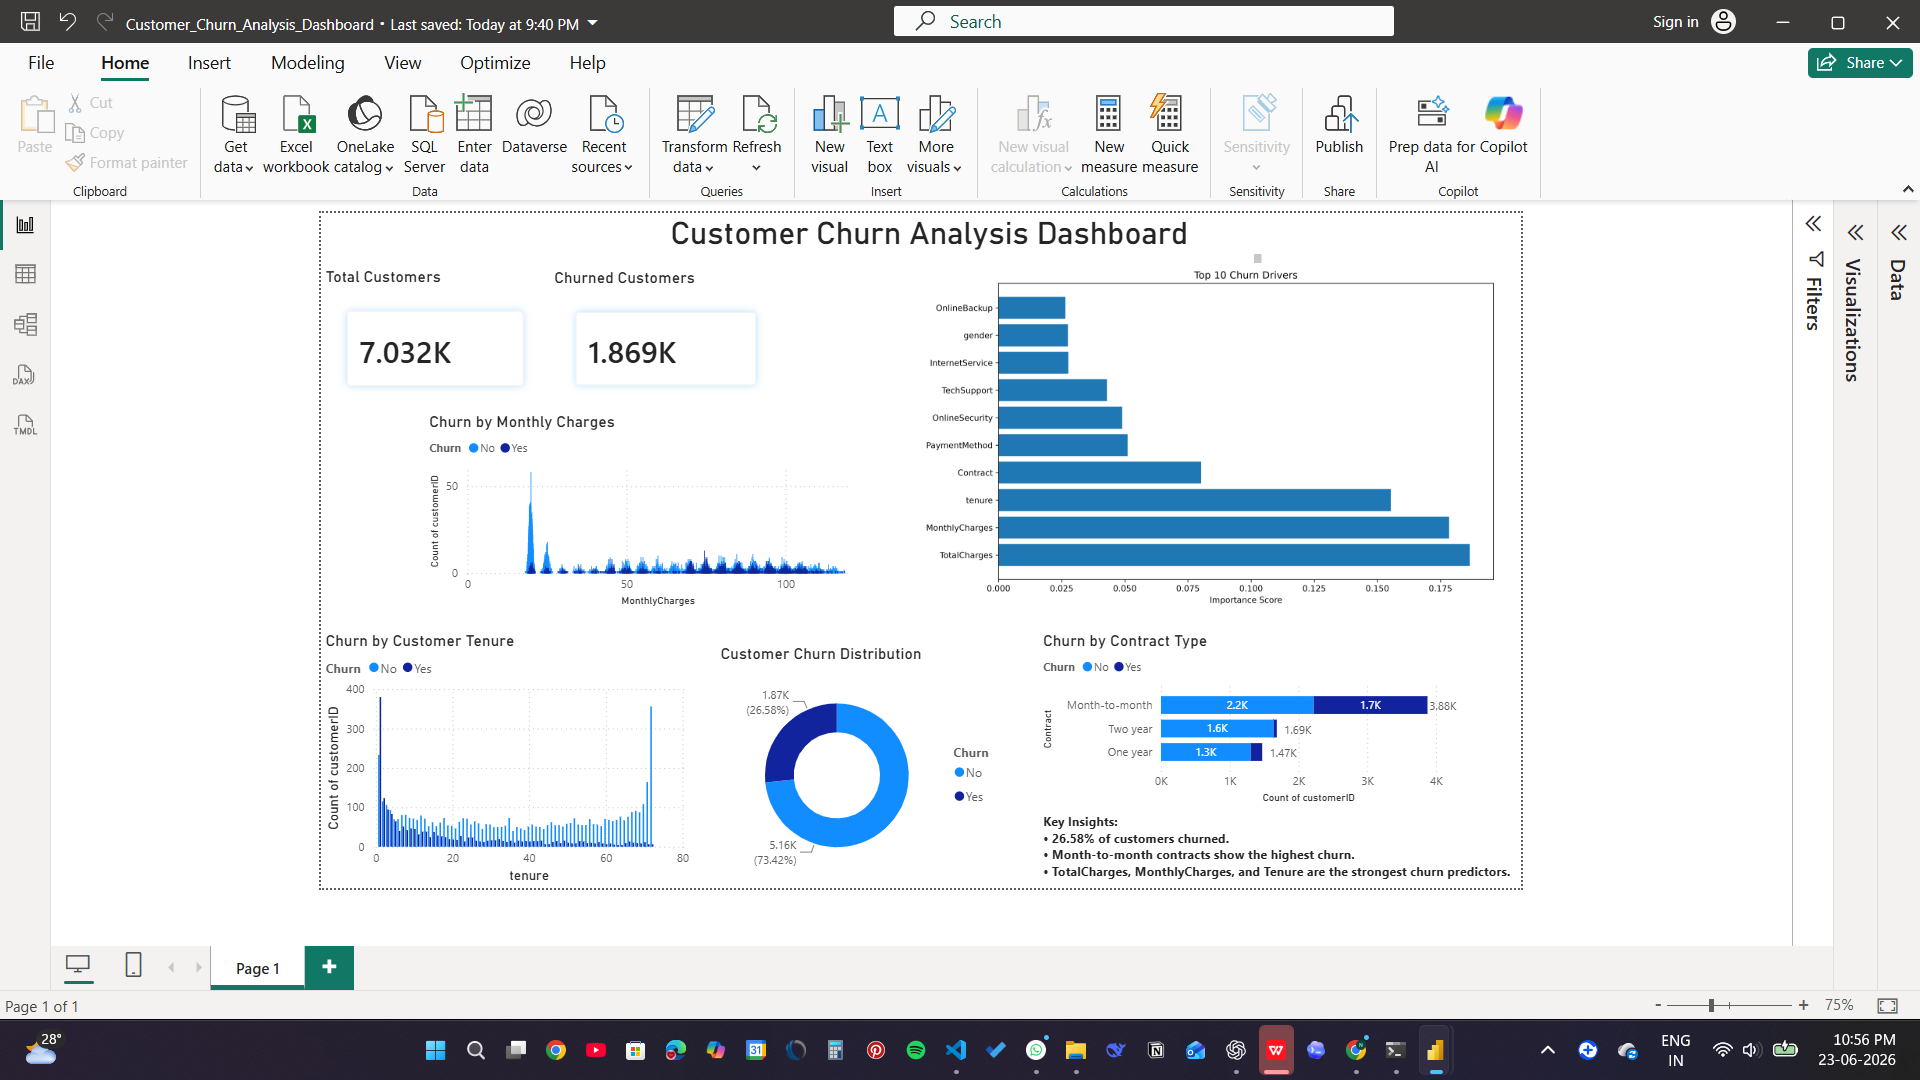

What the dashboard file says about the page in this screenshot:
{"tool":"powerbi","page":{"name":"Page 1","canvas":[1280,720],"ordinal":0},"visuals":[{"type":"donutChart","title":"Customer Churn Distribution","fields":{"Category":["cleaned_telco_churn.Churn"],"Y":["CountNonNull(cleaned_telco_churn.customerID)"]},"box":[421.6,459.5,316.2,260.8],"z":0},{"type":"cardVisual","title":"Churned Customers","fields":{"Data":["Count(cleaned_telco_churn.customerID)"]},"box":[244.6,58.1,248.6,154.1],"z":1000},{"type":"barChart","title":"Churn by Contract Type","fields":{"Category":["cleaned_telco_churn.Contract"],"Y":["CountNonNull(cleaned_telco_churn.customerID)"],"Series":["cleaned_telco_churn.Churn"]},"box":[764.9,445.9,458.1,189.2],"z":2000},{"type":"clusteredColumnChart","title":"Churn by Customer Tenure","fields":{"Category":["cleaned_telco_churn.tenure"],"Y":["CountNonNull(cleaned_telco_churn.customerID)"],"Series":["cleaned_telco_churn.Churn"]},"box":[0,445.9,398.6,274.3],"z":3000},{"type":"clusteredColumnChart","title":"Churn by Monthly Charges","fields":{"Category":["cleaned_telco_churn.MonthlyCharges"],"Y":["CountNonNull(cleaned_telco_churn.customerID)"],"Series":["cleaned_telco_churn.Churn"]},"box":[110.8,212.2,468.9,212.2],"z":4000},{"type":"image","box":[616.3,56.3,664,368.1],"z":5000},{"type":"cardVisual","title":"Total Customers","fields":{"Data":["Count(cleaned_telco_churn.customerID)"]},"box":[0,56.8,244.6,155.4],"z":6000},{"type":"textbox","title":"Customer Churn Analysis Dashboard","box":[367.6,1.4,640.5,56.8],"z":7000},{"type":"textbox","box":[764.9,635.1,514.9,85.1],"z":7002}]}

Visuals, with their boxes in screenshot pixels (x1, y1, x2, y2):
"Customer Churn Distribution" donutChart: [left=649, top=630, right=1116, bottom=1016]
"Churned Customers" cardVisual: [left=387, top=36, right=755, bottom=264]
"Churn by Contract Type" barChart: [left=1156, top=610, right=1834, bottom=889]
"Churn by Customer Tenure" clusteredColumnChart: [left=25, top=610, right=615, bottom=1015]
"Churn by Monthly Charges" clusteredColumnChart: [left=189, top=264, right=883, bottom=578]
image: [left=937, top=33, right=1919, bottom=578]
"Total Customers" cardVisual: [left=25, top=34, right=387, bottom=264]
"Customer Churn Analysis Dashboard" textbox: [left=569, top=0, right=1516, bottom=36]
textbox: [left=1156, top=889, right=1918, bottom=1015]
